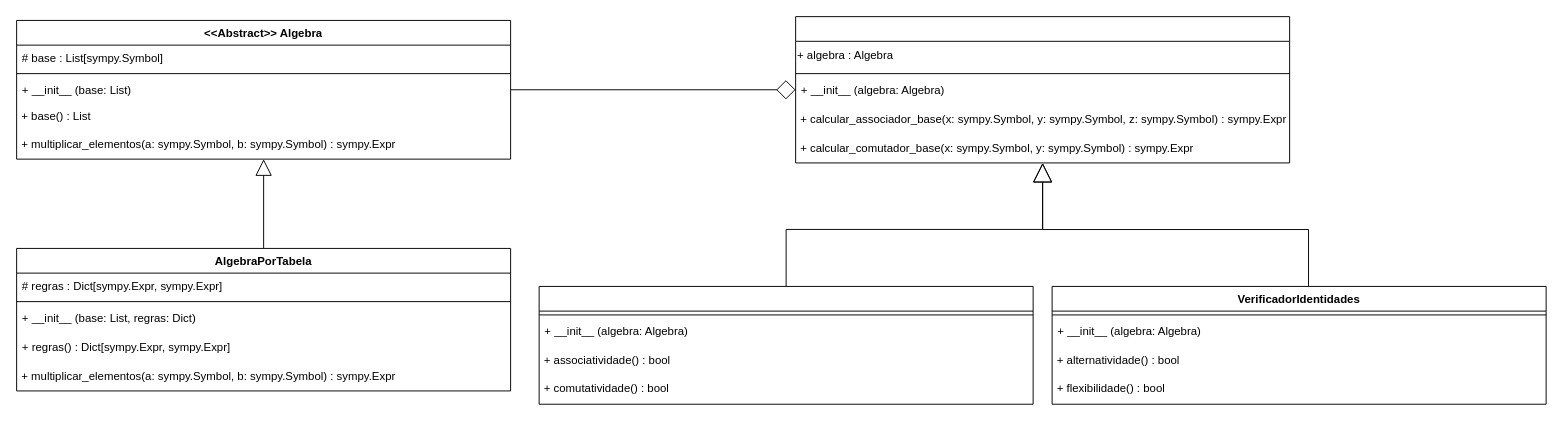
The diagram is 1563 pixels wide and 421 high, and some of its shapes have lost their labels. Here are the shapes that lost their labels. From the top down, the box of each, then its label:
(795, 16, 1290, 163): <<Abstract>> AvaliadorAlgebrico
(538, 285, 1033, 404): VerificadorAxiomas
